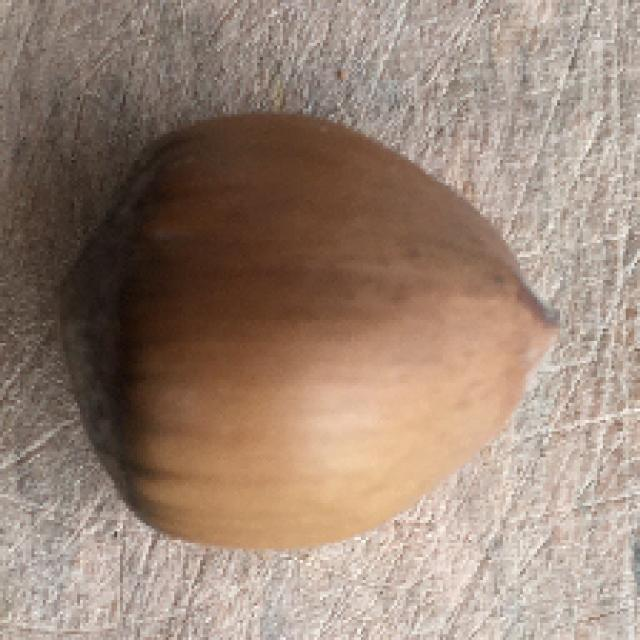qualityHazelnut: (46, 114, 562, 554)
